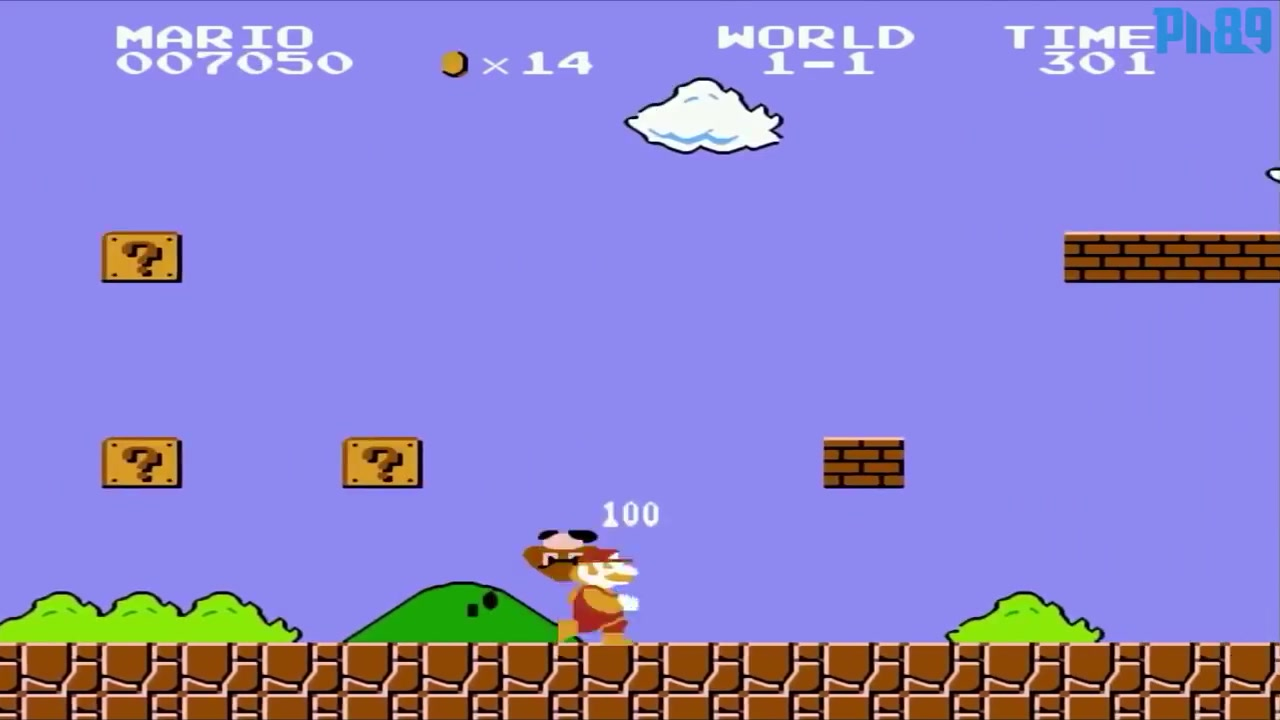mario: (548, 537, 638, 644)
